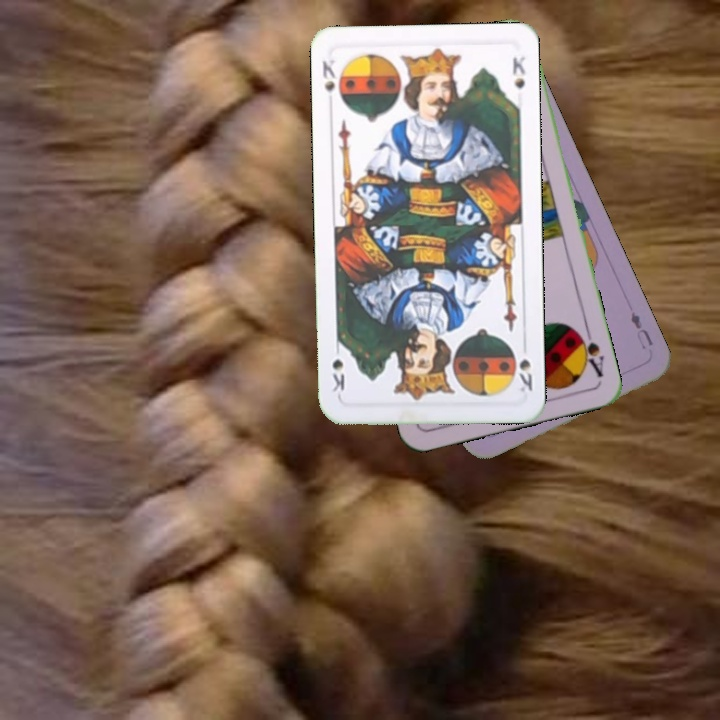EU: (626, 307, 656, 352)
SA: (572, 323, 607, 380)
SK: (318, 55, 345, 106), (515, 354, 535, 395)
